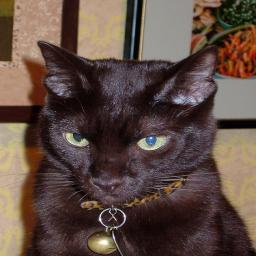catnose: (90, 174, 126, 197)
